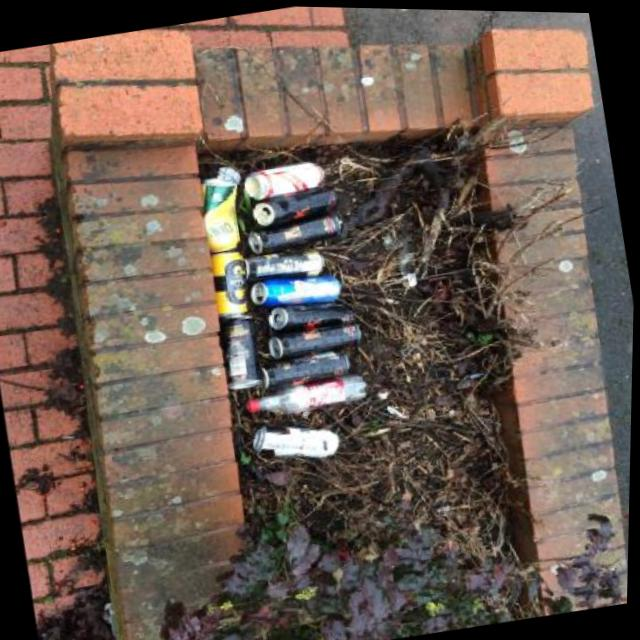metal: (247, 412, 340, 470), (244, 209, 341, 258), (247, 267, 341, 315), (247, 182, 340, 230), (265, 318, 362, 363), (252, 348, 349, 393), (238, 157, 325, 204), (195, 174, 246, 254), (239, 242, 324, 288), (214, 312, 262, 392), (265, 294, 353, 335), (206, 249, 253, 319)
plastic: (241, 369, 368, 421)
